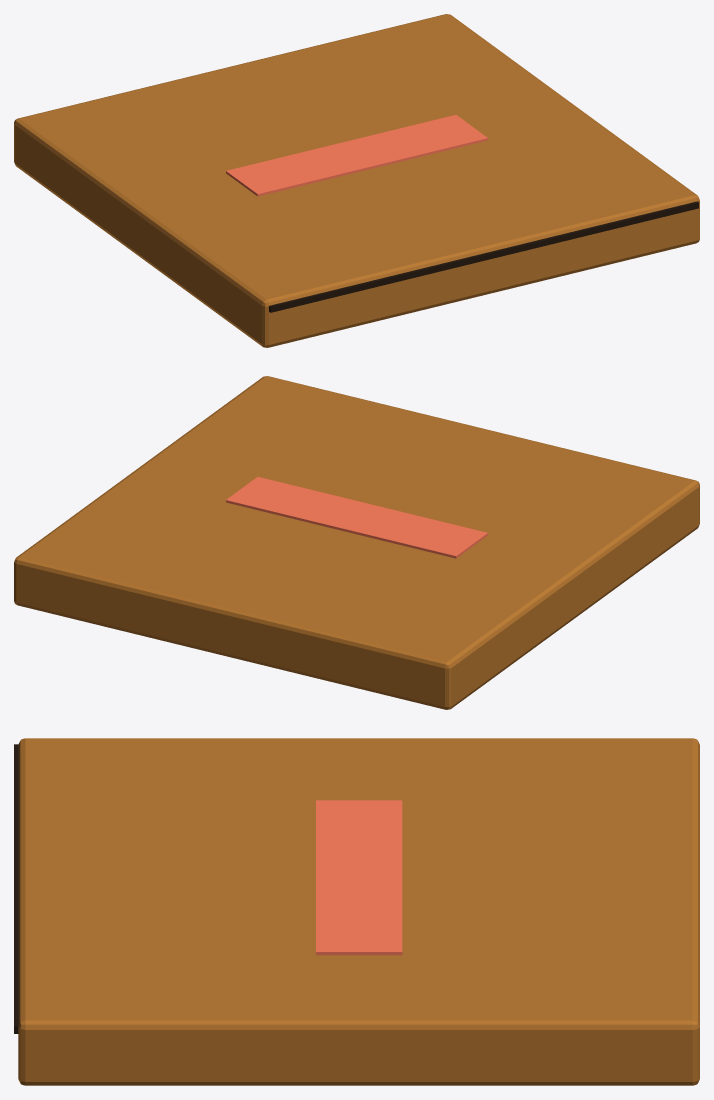
File: pizza_box.glb
3 renders of one model, top to bottom at view 1: azimuth 30°, elevation 25°; view 2: azimuth 150°, elevation 25°; view 3: azimuth 270°, elevation 25°, orthographic. The views are drawn at different scales.
Parts seen in each view (by area): view 1: box, logo, lidline; view 2: box, logo; view 3: box, logo, lidline.
Boxes of the visible parts, x1,y1,x2,y2 form: box: (14, 14, 699, 347); logo: (226, 115, 487, 196); lidline: (269, 201, 698, 312); box: (14, 376, 699, 709); logo: (226, 477, 487, 558); box: (18, 738, 699, 1085); logo: (316, 800, 402, 955); lidline: (14, 744, 18, 1033).
Size of the model in its own units: 0.95 by 0.105 by 0.956.
